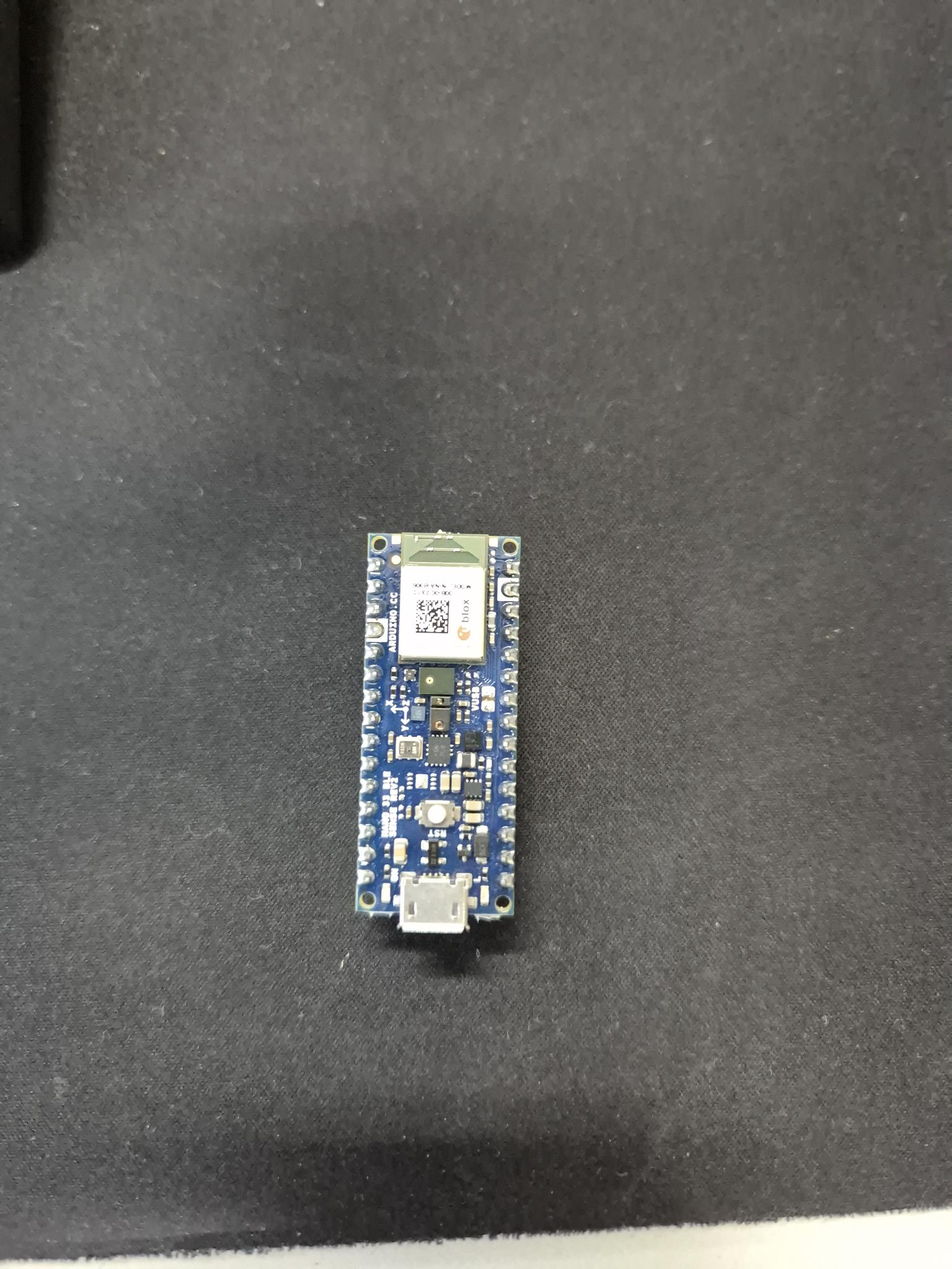arduino-nano-ble-sense: (356, 532, 520, 933)
